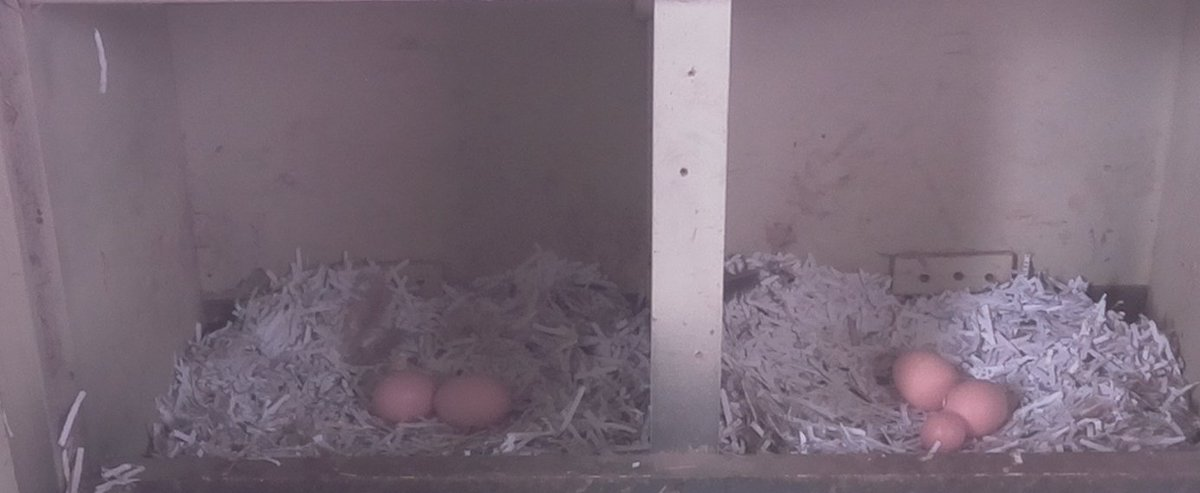egg: (425, 369, 517, 433), (364, 366, 439, 432), (943, 379, 1022, 438), (886, 346, 959, 407), (914, 407, 972, 455)
